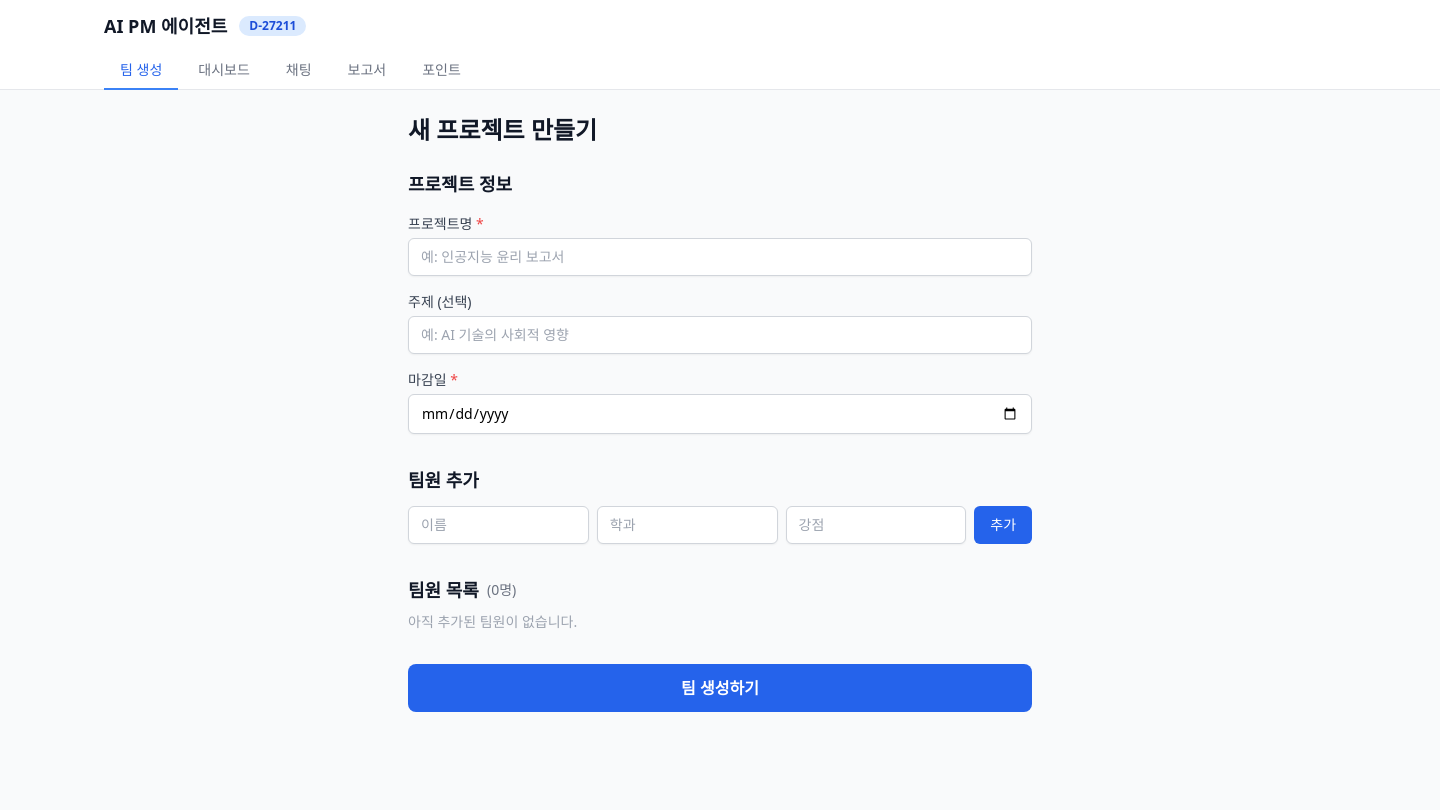
it: App › switches to 보고서 tab on click
Click the button "보고서" at (367, 71), box [332, 52, 402, 90]
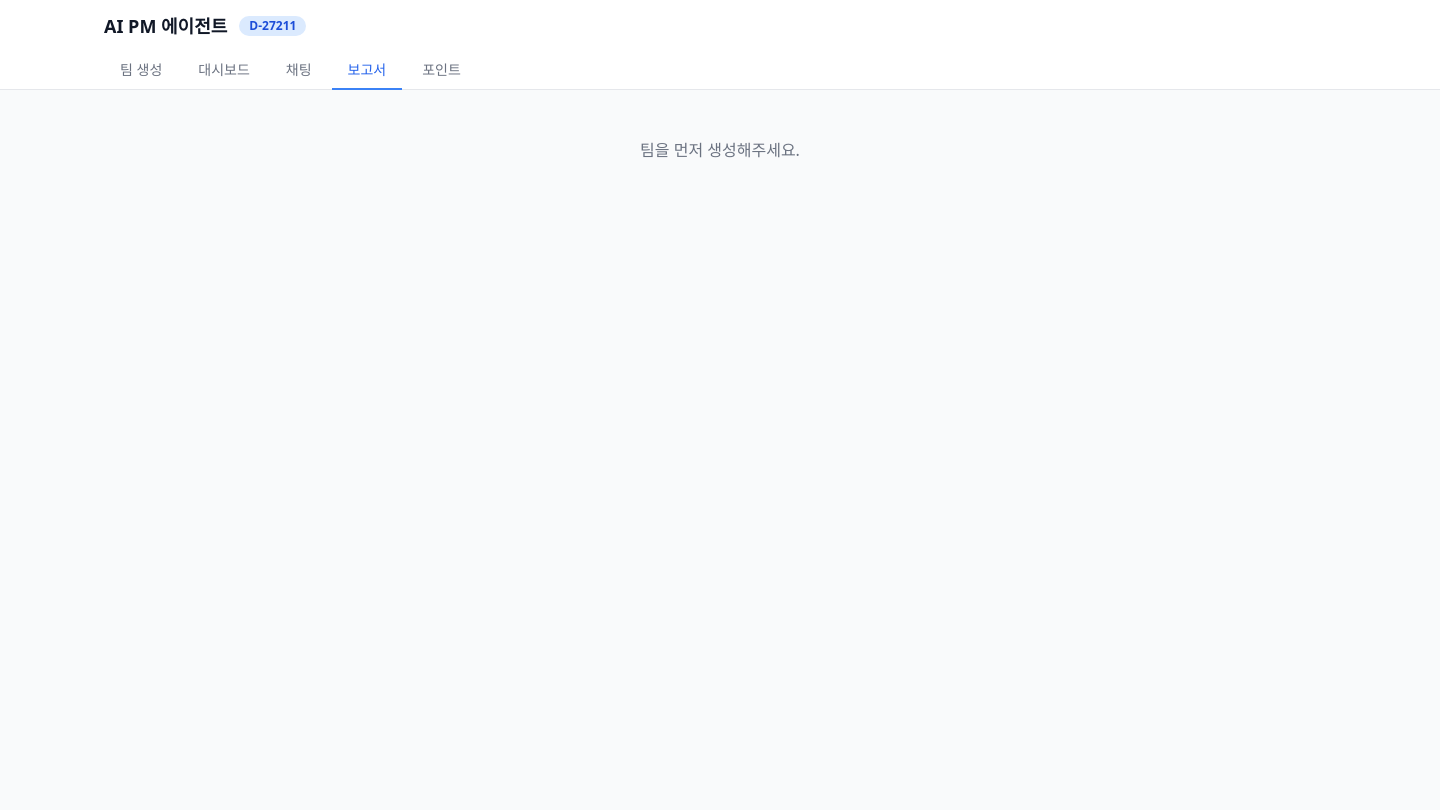
Now the text "팀을 먼저 생성해주세요." is shown, box [640, 138, 800, 162]
